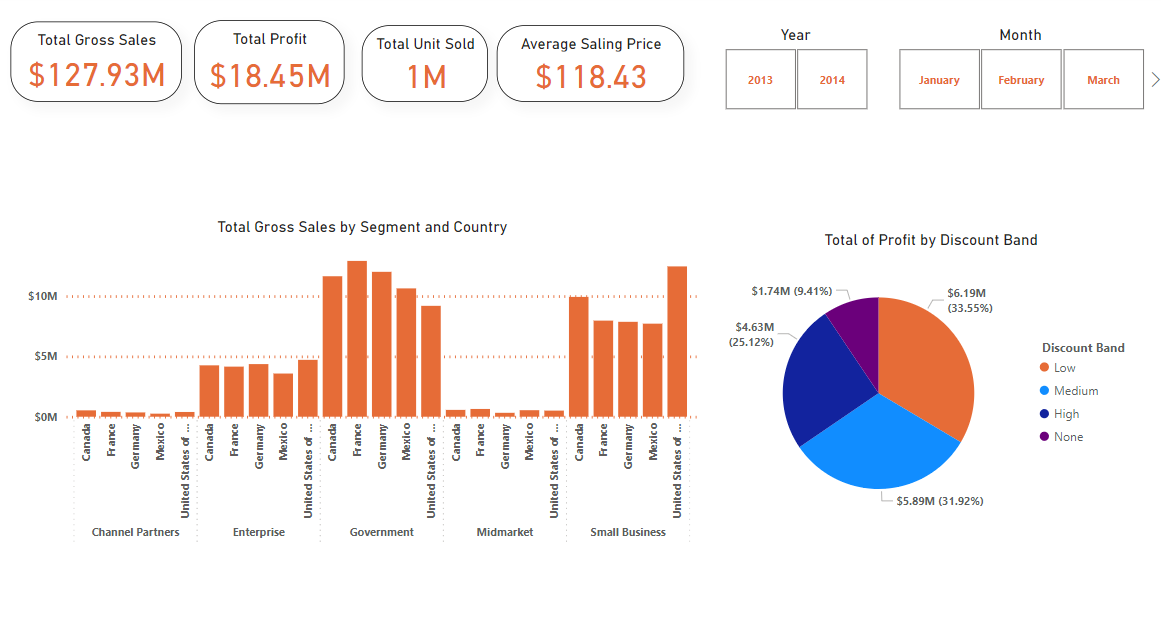

Layout of this report page (visuals, bound fields, positions):
{"tool":"powerbi","page":{"name":"Page 2","canvas":[1280,720],"ordinal":1},"visuals":[{"type":"card","title":"Total Gross Sales","fields":{"Values":["Sum(Financials. Gross Sales )"]},"box":[13.7,30.2,187.8,87.7],"z":0},{"type":"slicer","title":"Month","fields":{"Values":["Financials.Date.Variation.Date Hierarchy.Month"]},"box":[962.5,34.3,318.1,98.7],"z":1000},{"type":"card","title":"Total Profit","fields":{"Values":["Sum(Financials. Profit )"]},"box":[215.3,28.8,164.5,91.9],"z":2000},{"type":"slicer","title":"Year","fields":{"Values":["Financials.Date.Variation.Date Hierarchy.Year"]},"box":[771.9,34.3,205.7,98.7],"z":3000},{"type":"card","title":"Total Unit Sold","fields":{"Values":["Sum(Financials. Units Sold )"]},"box":[399,34.3,138.5,83.6],"z":4000},{"type":"card","title":"Average Saling Price","fields":{"Values":["Avg(Financials. Sale Price )"]},"box":[547,34.3,205.7,83.6],"z":5000},{"type":"pieChart","title":"Total of  Profit  by  Discount Band ","fields":{"Category":["Financials. Discount Band "],"Y":["Sum(Financials. Profit )"]},"box":[785.6,259.1,475.8,338.6],"z":6000},{"type":"clusteredColumnChart","title":"Total Gross Sales  by Segment and Country","fields":{"Y":["Sum(Financials. Gross Sales )"],"Category":["Financials.Segment","Financials.Country"]},"box":[27.4,245.4,744.5,367.4],"z":7000}]}

Visuals, with their boxes in screenshot pixels (x1, y1, x2, y2), scaled from the page's 1280x720 canvas onto the 1161x638 screenshot:
"Total Gross Sales" card: (left=12, top=27, right=183, bottom=104)
"Month" slicer: (left=873, top=30, right=1160, bottom=118)
"Total Profit" card: (left=195, top=26, right=344, bottom=107)
"Year" slicer: (left=700, top=30, right=887, bottom=118)
"Total Unit Sold" card: (left=362, top=30, right=488, bottom=104)
"Average Saling Price" card: (left=496, top=30, right=683, bottom=104)
"Total of  Profit  by  Discount Band " pieChart: (left=713, top=230, right=1144, bottom=530)
"Total Gross Sales  by Segment and Country" clusteredColumnChart: (left=25, top=217, right=700, bottom=543)
